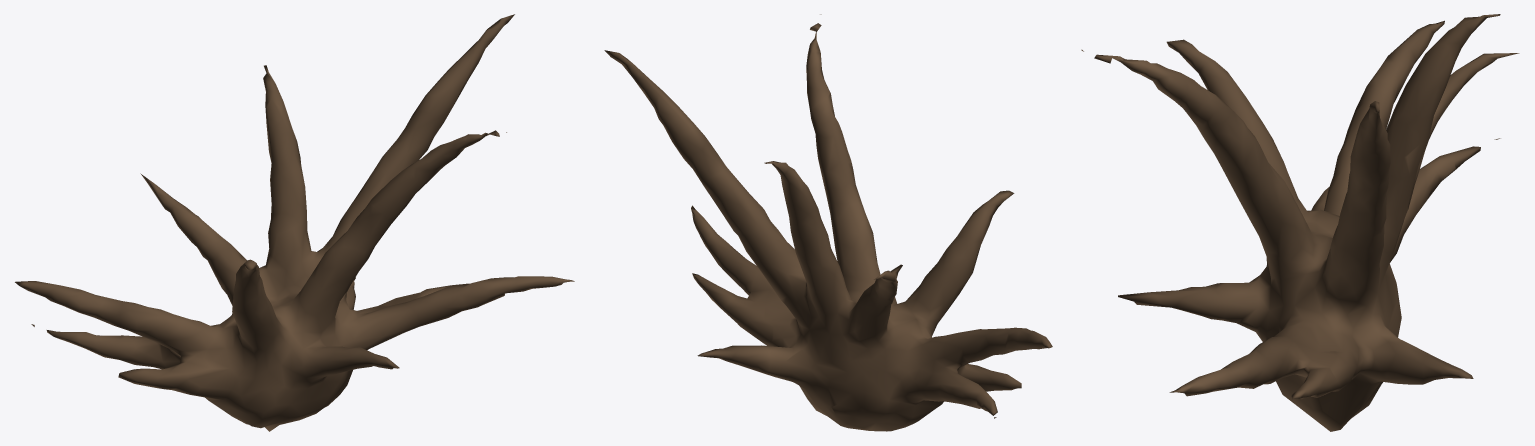
File: root-mobile.glb
The picture shows the model from 3 angles, left to right: view 1: azimuth 30°, elevation 25°; view 2: azimuth 150°, elevation 25°; view 3: azimuth 270°, elevation 25°; orthographic projection. The views are drawn at different scales.
Parts seen in each view (by area): view 1: root; view 2: root; view 3: root.
Part boxes in pixels (<box>): root: <box>15,14,574,431</box>; root: <box>604,14,1052,431</box>; root: <box>1081,14,1519,431</box>.
Size of the model in its own units: 1.4 by 0.9478 by 0.7976.
